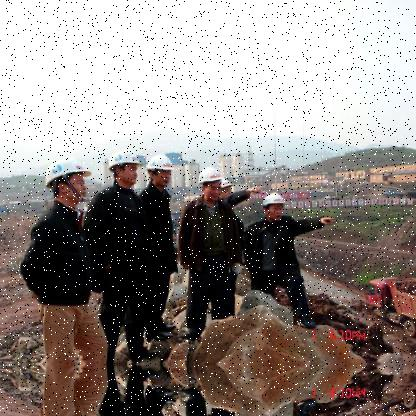Helmet: (102, 142, 144, 189), (49, 161, 92, 205), (196, 164, 228, 203), (148, 153, 176, 192), (264, 188, 288, 225)
